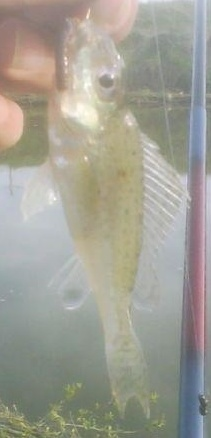Gymnocephalus cernuus: (20, 20, 191, 418)
